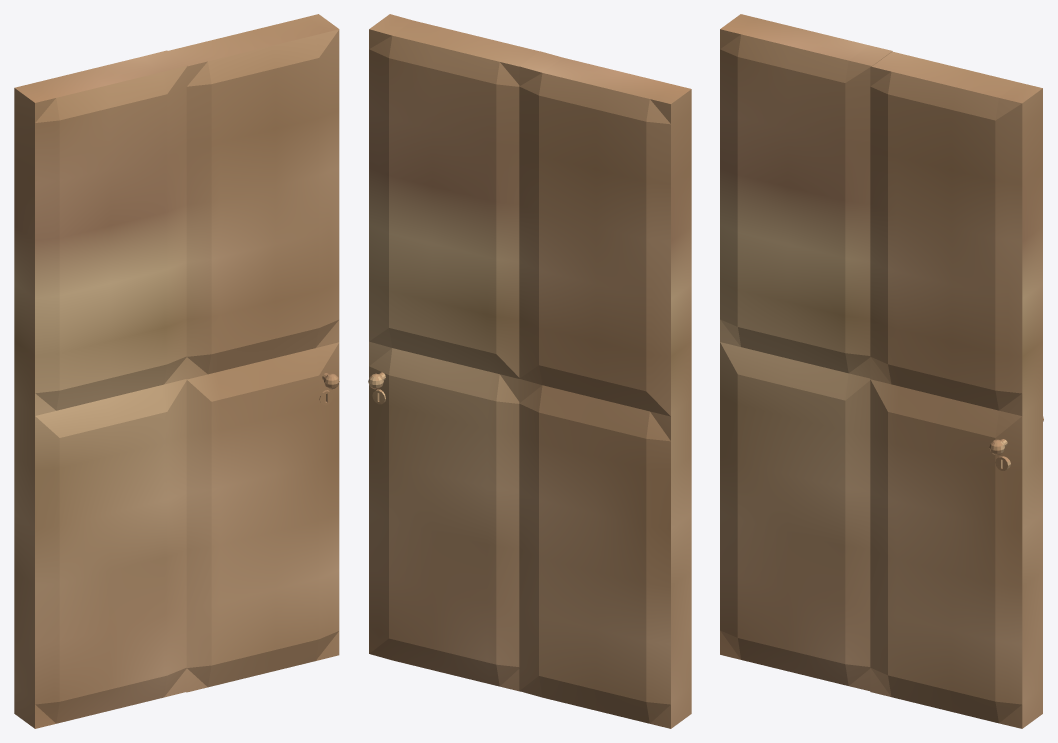
Rendered from porta.fbx.
The picture shows the model from 3 angles, left to right: view 1: azimuth 30°, elevation 25°; view 2: azimuth 150°, elevation 25°; view 3: azimuth 330°, elevation 25°; orthographic projection.
Visible parts, largest first — view 1: Generic_1; view 2: Generic_1; view 3: Generic_1.
Boxes of the visible parts, box(x1,y1,x2,y2) form: Generic_1: box(14, 14, 339, 728); Generic_1: box(368, 14, 691, 728); Generic_1: box(720, 14, 1043, 728).
Bounding box in the file's own units: 1.38 × 2.72 × 0.3677.
